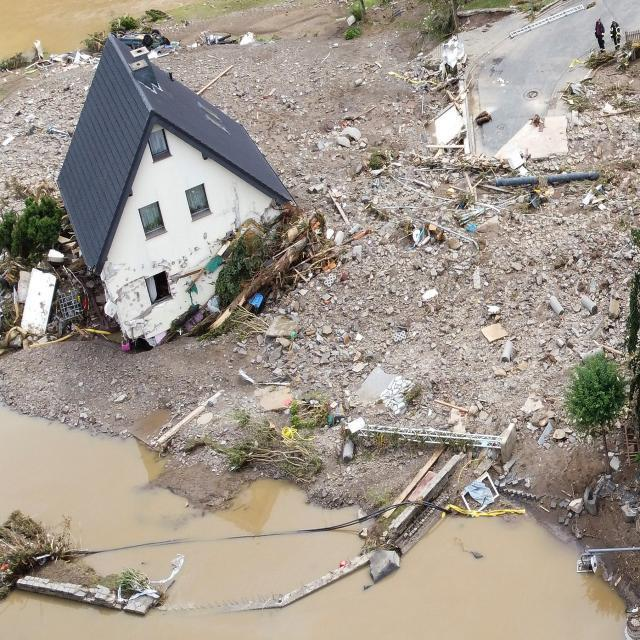flood: (0, 517, 625, 640), (0, 407, 358, 550), (0, 0, 196, 58)
house: (62, 40, 294, 328)
